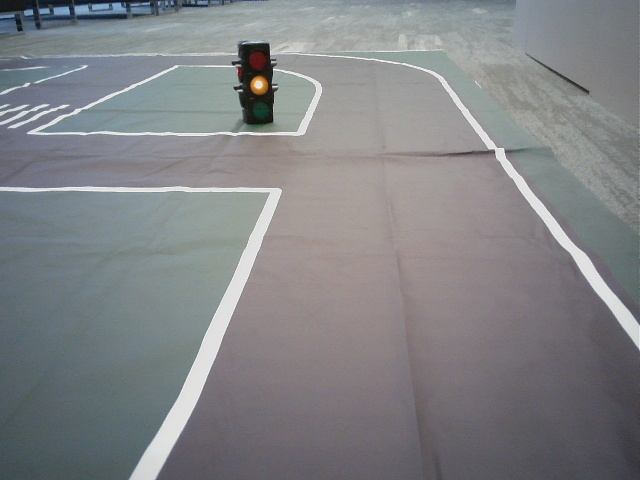yellow: (243, 46, 271, 119)
